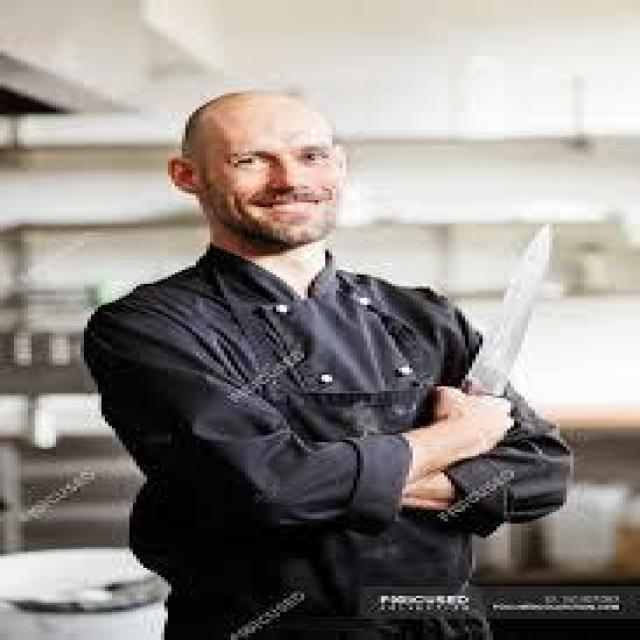faca: (423, 212, 563, 464)
